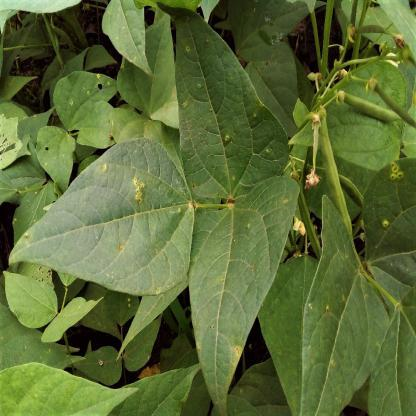Beans_Rust: (10, 141, 194, 298), (301, 202, 391, 416), (194, 192, 292, 388), (171, 24, 280, 188), (362, 154, 416, 304), (56, 64, 125, 150)
